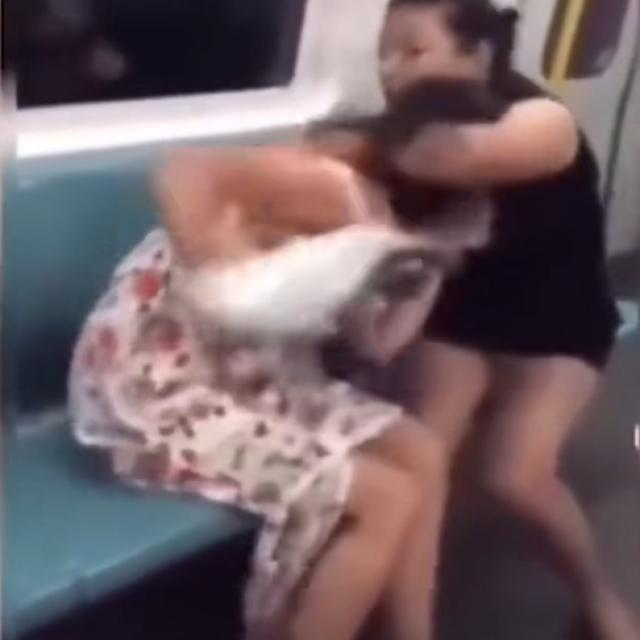fight: (183, 13, 612, 466)
